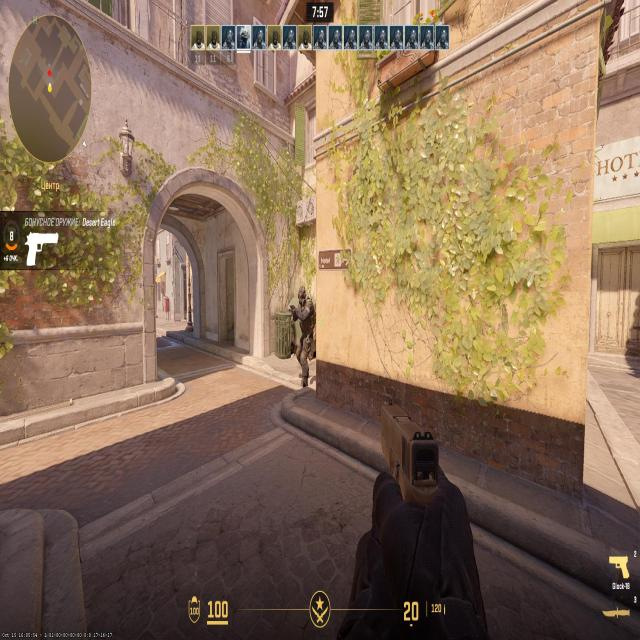CT: (298, 294, 312, 384)
CT_heat: (302, 293, 307, 306)
